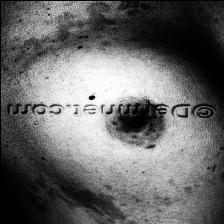Toxin: (36, 179, 96, 205), (80, 0, 123, 25)
